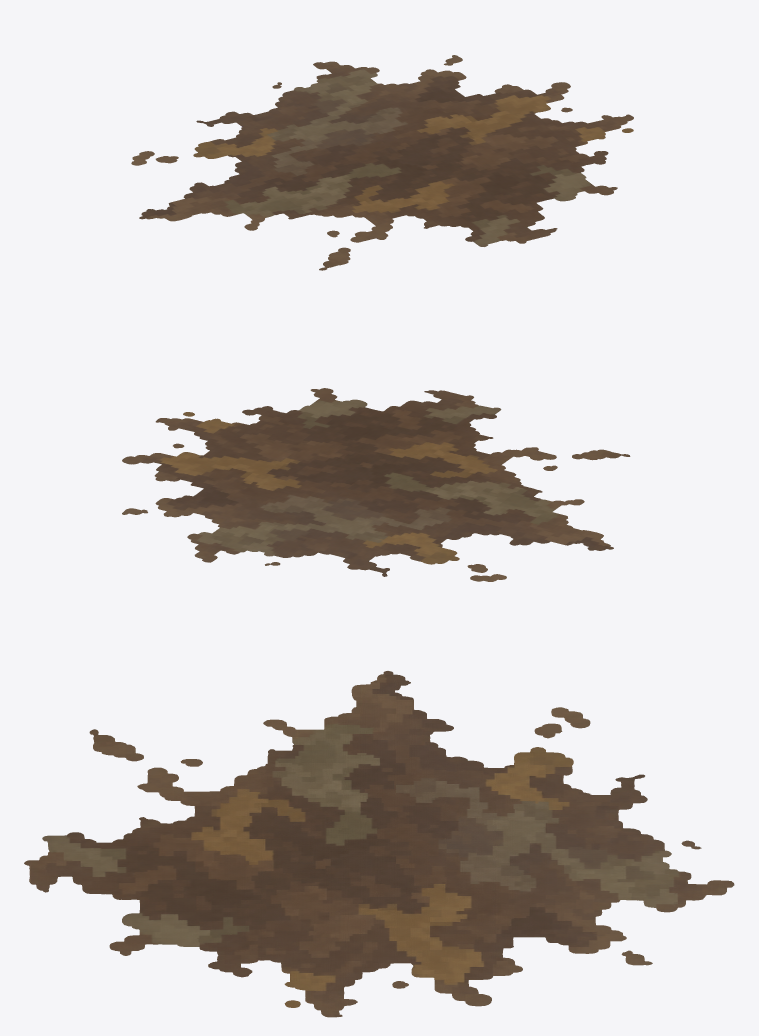
File: SM_D13_DampStain.fbx
3 views of the same model, one above another, from view 1: azimuth 30°, elevation 25°; view 2: azimuth 150°, elevation 25°; view 3: azimuth 270°, elevation 25° (orthographic). The views are drawn at different scales.
Parts seen in each view (by area): view 1: D13_Decal; view 2: D13_Decal; view 3: D13_Decal.
Boxes of the visible parts, x1=… form: D13_Decal: x1=131, y1=55, x2=633, y2=270; D13_Decal: x1=122, y1=388, x2=630, y2=581; D13_Decal: x1=24, y1=671, x2=734, y2=1017.
Bounding box in the file's own units: 1.4 × 0.008 × 1.22.
